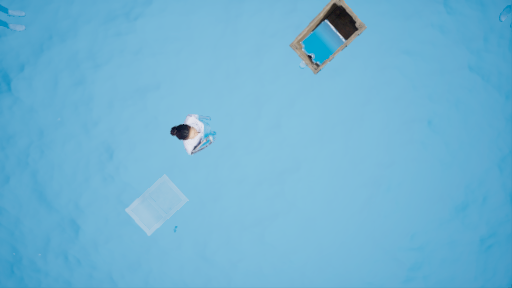person: (162, 107, 221, 158)
